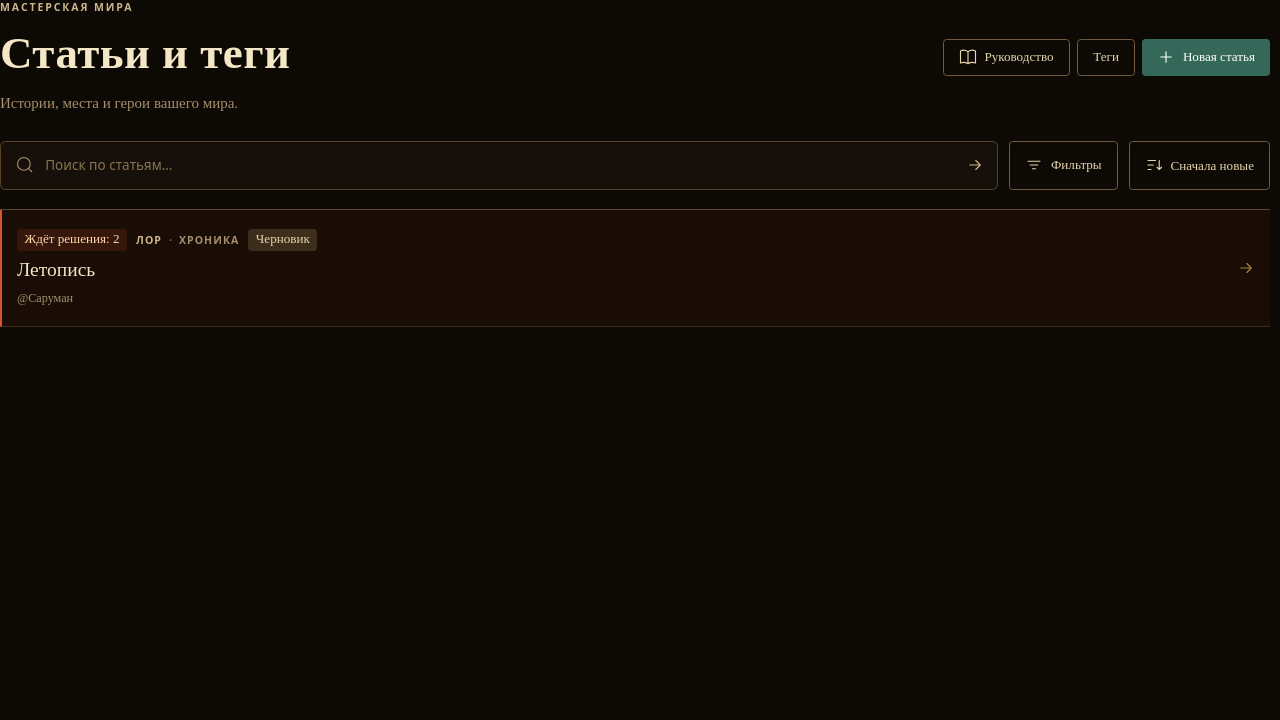
it: Article editor workspace › filters by several statuses from the filters drawer, status section first
Click the button "Фильтры".
click(1064, 165)  # box [1010, 141, 1118, 190]
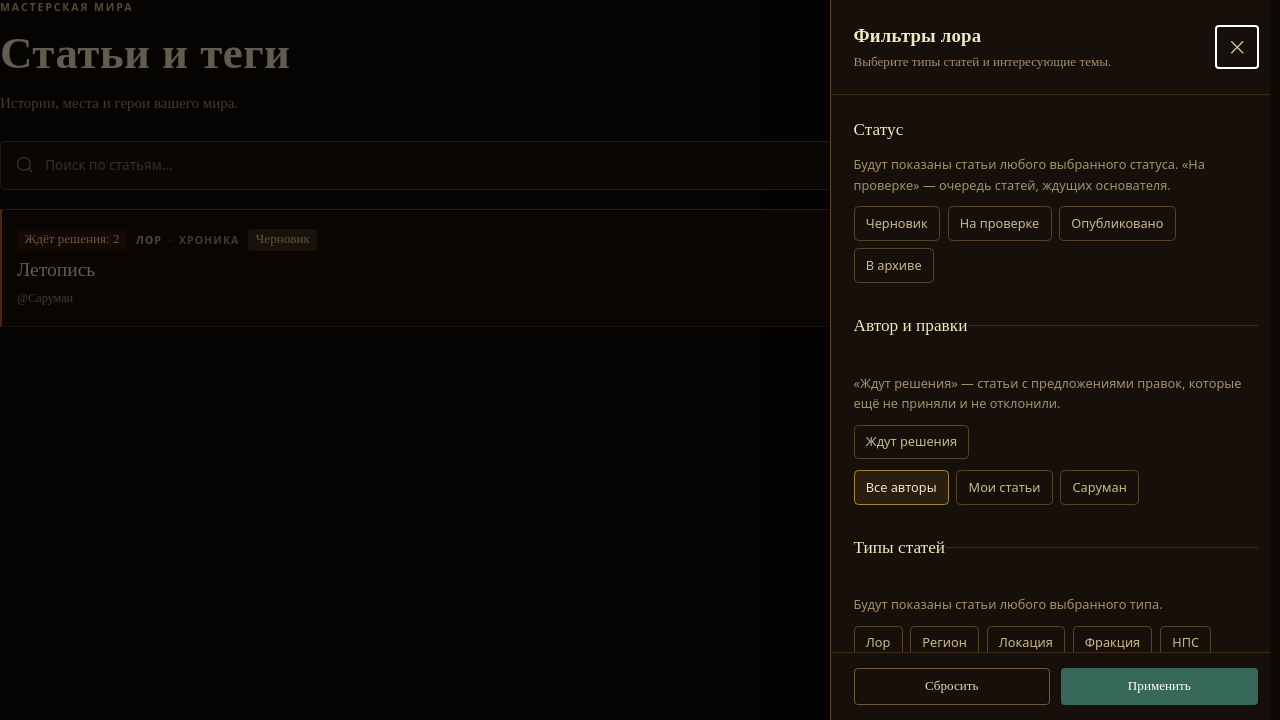
Now the element that starts with "Статус" is shown, box [854, 120, 903, 139]
Click the button "На проверке".
click(1000, 224)  # box [948, 206, 1052, 241]
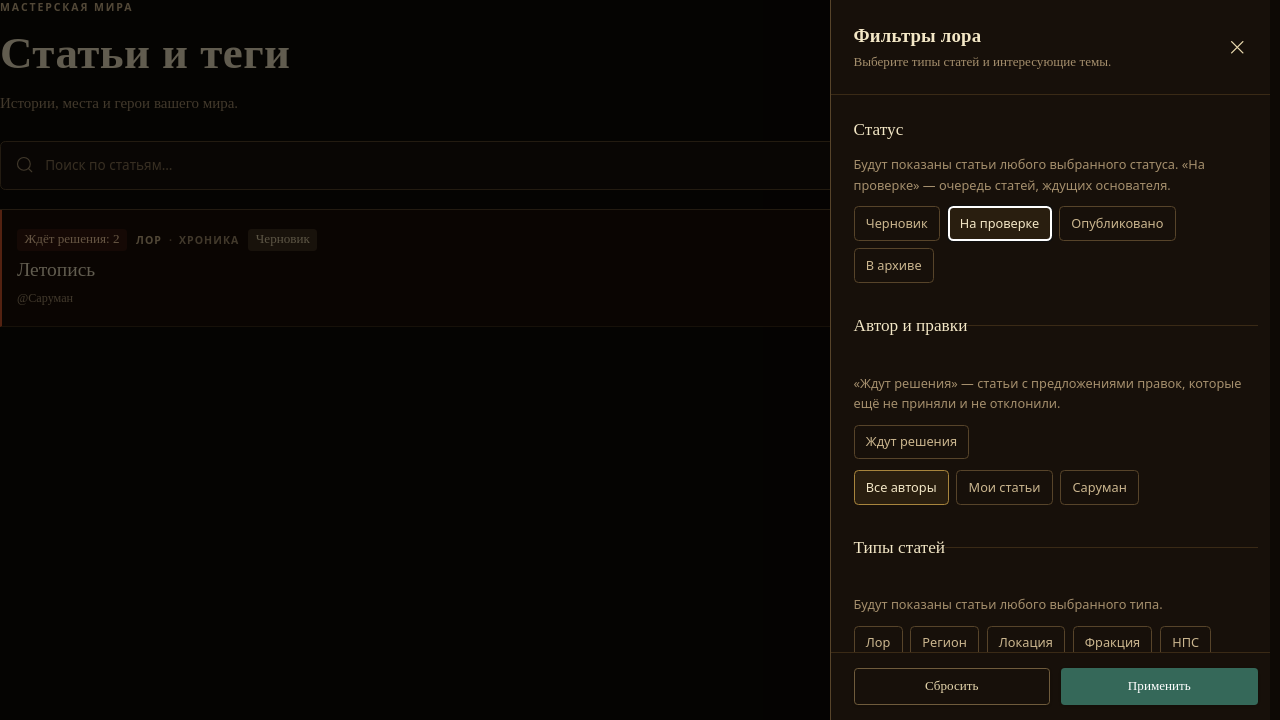
Click the button "Черновик".
click(897, 224)  # box [854, 206, 940, 241]
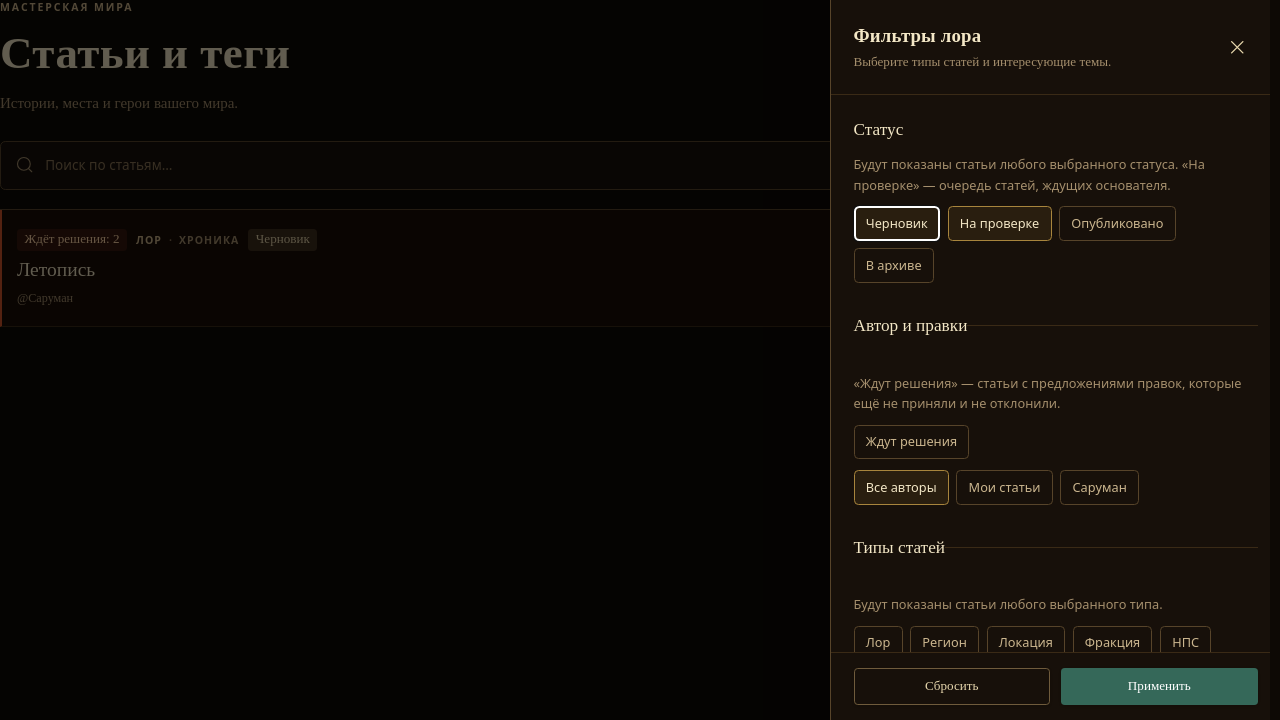
Click the button "Применить".
click(1159, 686)  # box [1061, 668, 1258, 705]
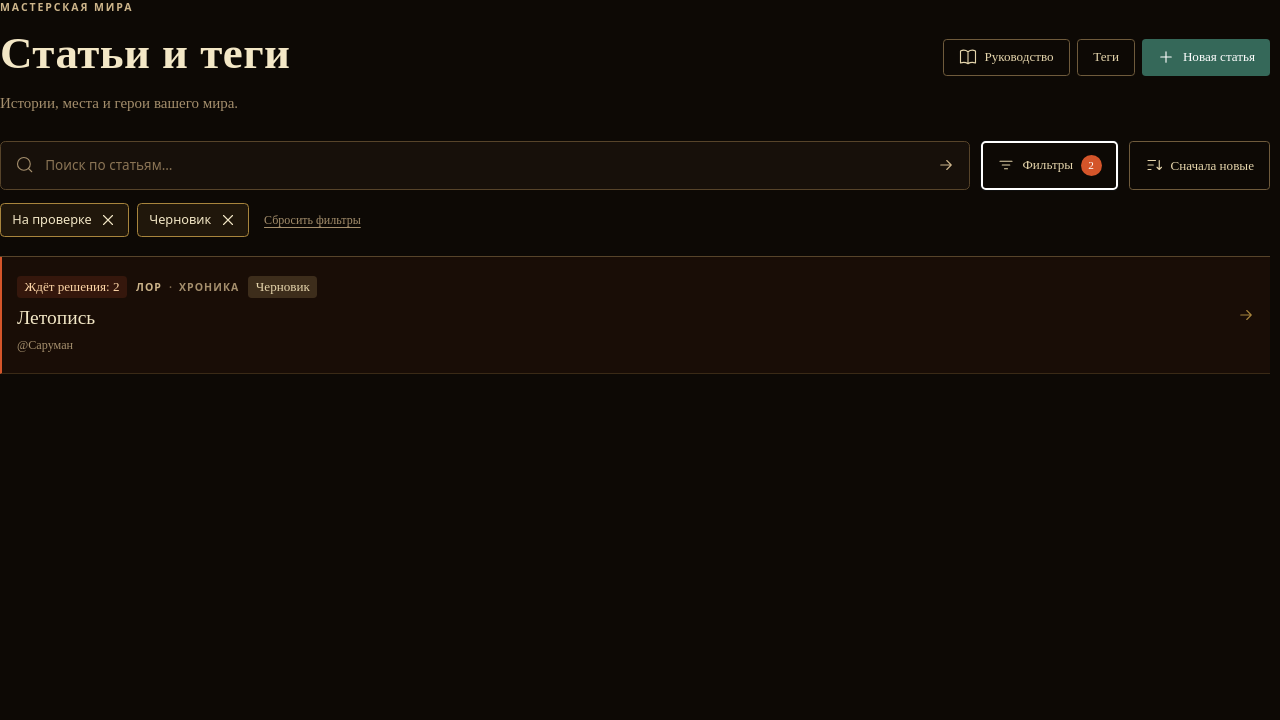
Now the button with aria-label "Убрать статус На проверке" is shown, box [0, 203, 130, 237]
Now the button with aria-label "Убрать статус Черновик" is shown, box [137, 203, 249, 237]
